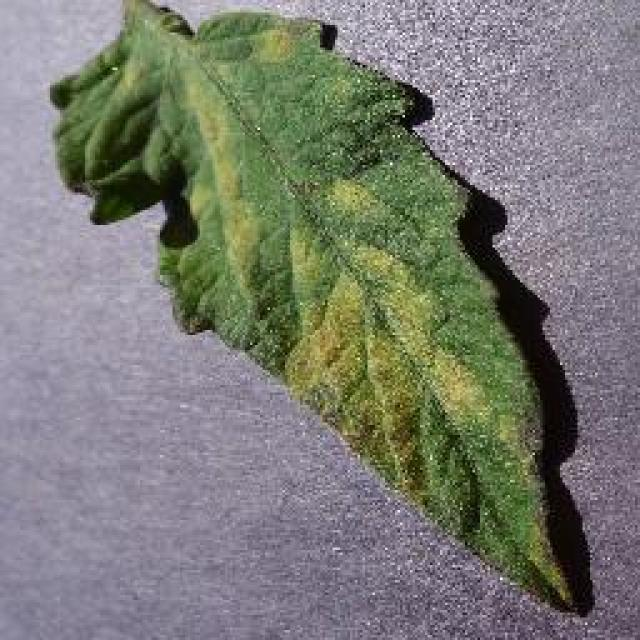leaf mold: (47, 0, 574, 615)
